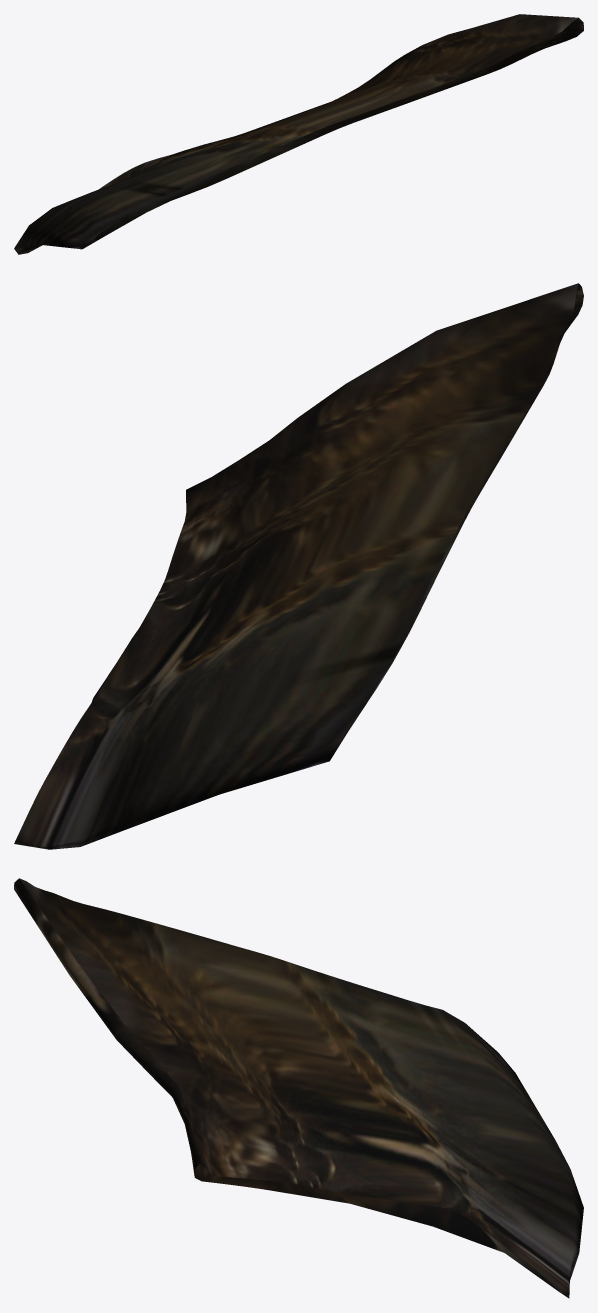
Rendered from left-wings-inner.obj.
The picture shows the model from 3 angles, top to bottom: view 1: azimuth 90°, elevation 25°; view 2: azimuth 150°, elevation 25°; view 3: azimuth 270°, elevation 25°; orthographic projection. The views are drawn at different scales.
Visible parts, largest first — view 1: Flugel_Plane.006; view 2: Flugel_Plane.006; view 3: Flugel_Plane.006.
Boxes of the visible parts, <box> form: Flugel_Plane.006: <box>14,14,583,254</box>; Flugel_Plane.006: <box>14,283,583,849</box>; Flugel_Plane.006: <box>14,878,583,1298</box>.
Size of the model in its own units: 1.95 by 2.05 by 3.29.
